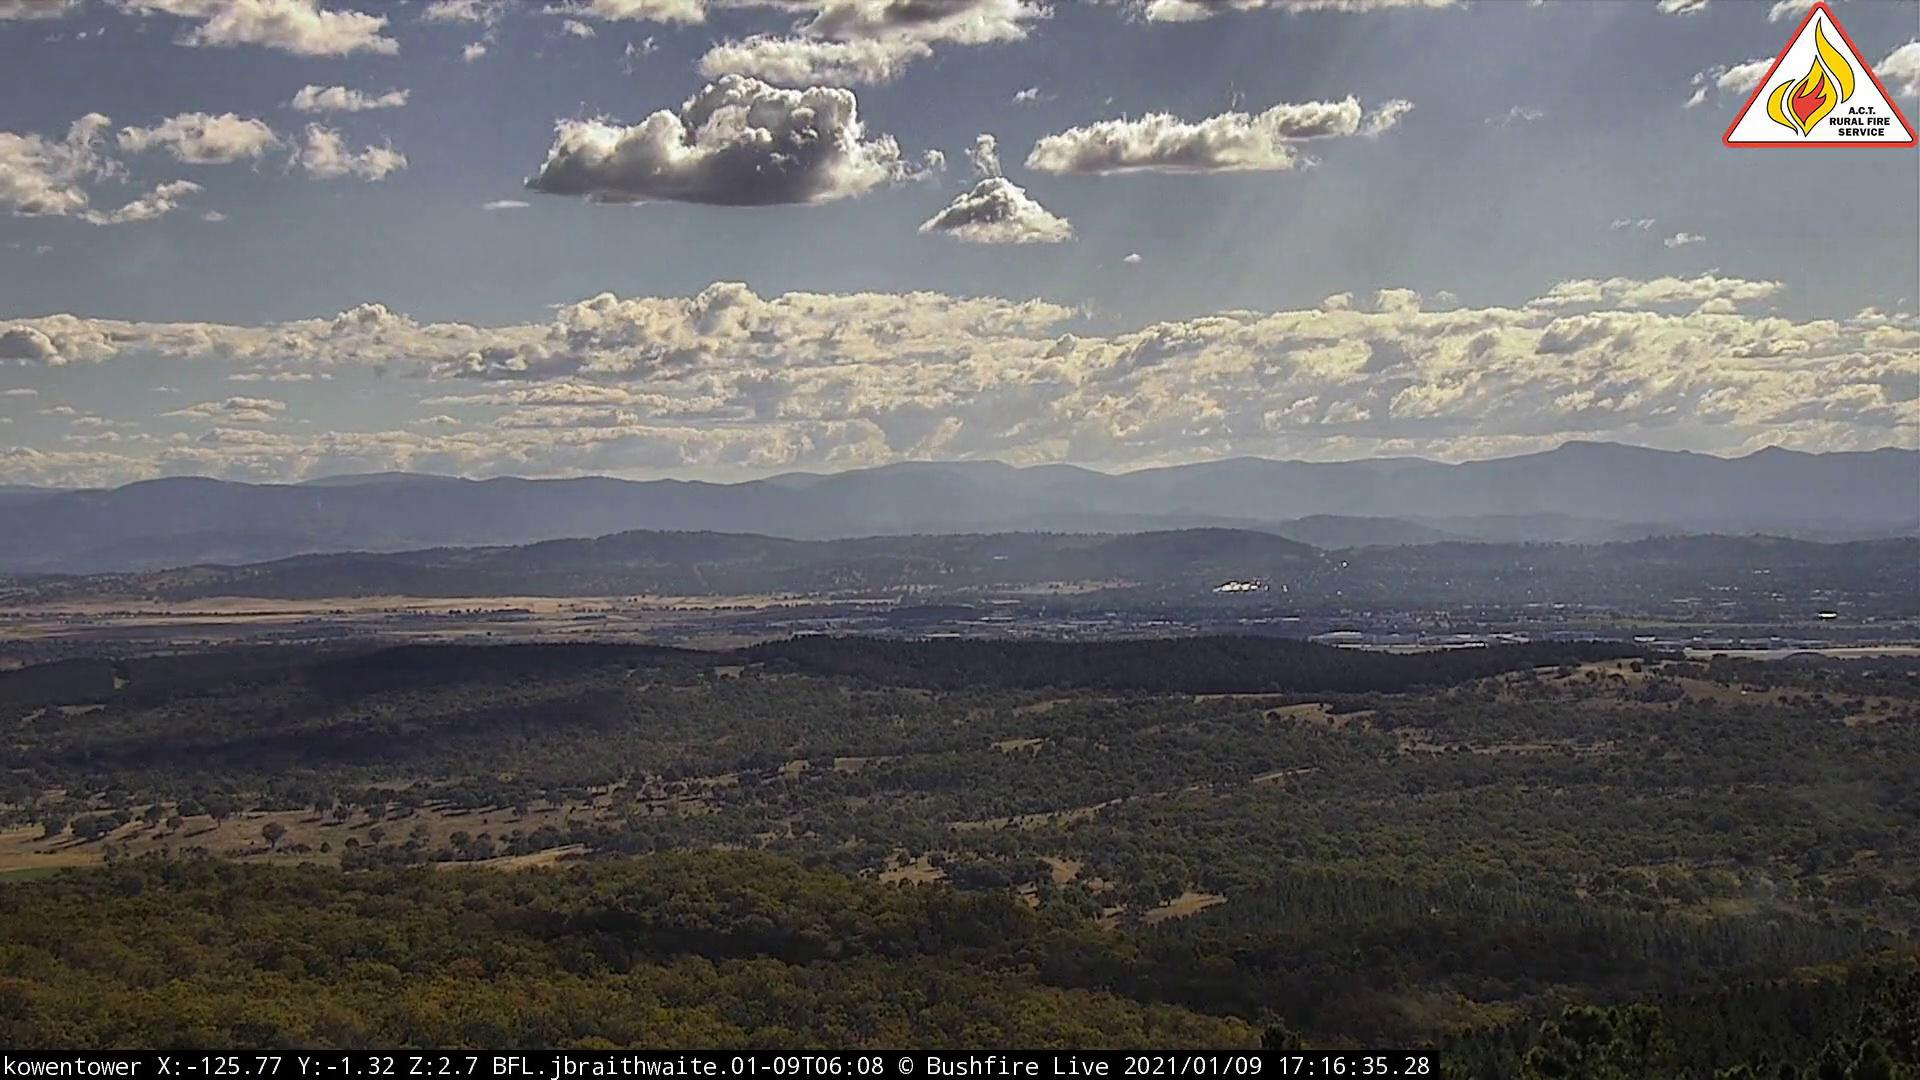Smoke: (860, 546, 982, 612)
